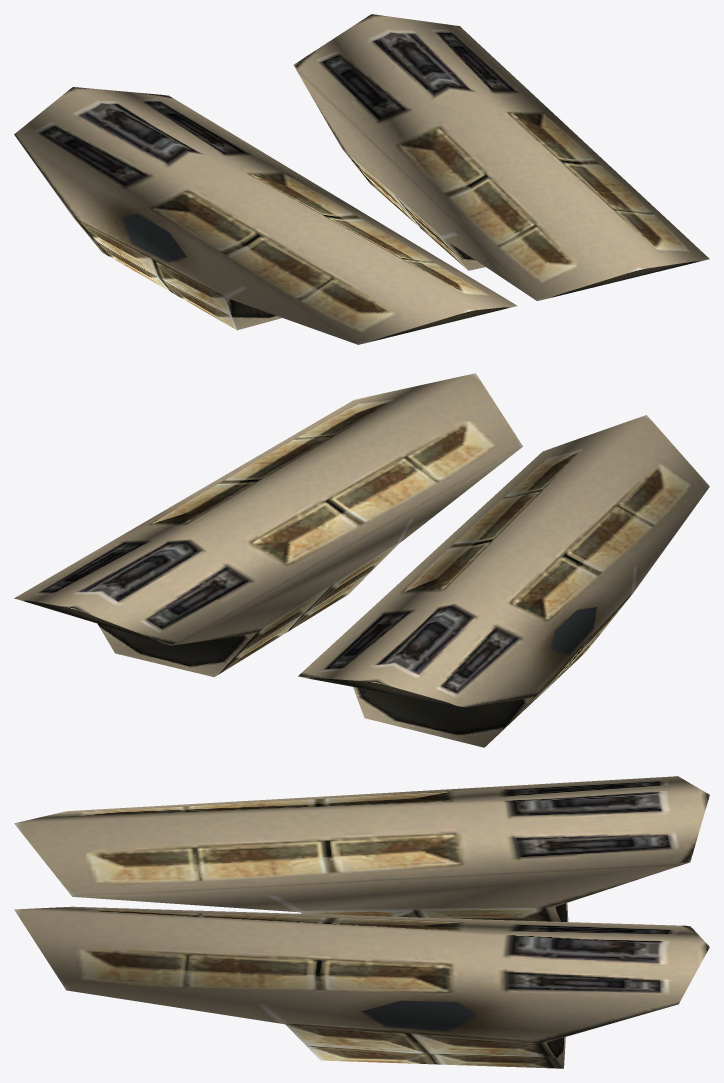
File: ArmPads5.glb
3 renders of one model, top to bottom at view 1: azimuth 30°, elevation 25°; view 2: azimuth 150°, elevation 25°; view 3: azimuth 270°, elevation 25°, orthographic. The views are drawn at different scales.
Parts seen in each view (by area): view 1: ArmPads5; view 2: ArmPads5; view 3: ArmPads5.
Part boxes in pixels (x1=…): ArmPads5: x1=14, y1=14, x2=709, y2=344; ArmPads5: x1=14, y1=373, x2=709, y2=747; ArmPads5: x1=14, y1=776, x2=709, y2=1068.
Bounding box in the file's own units: 15.84 × 3.67 × 20.13.
1 material, 1 textured.
